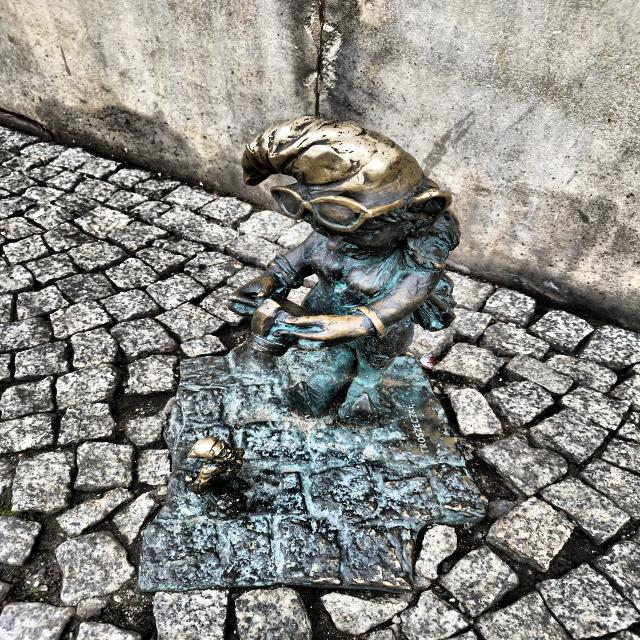Troszka i Adoratorek: (137, 116, 486, 595)
